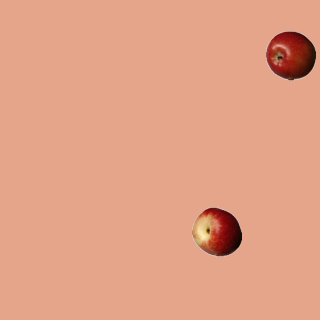Apple Braeburn: (265, 30, 315, 80)
Nectarine: (191, 206, 241, 256)
